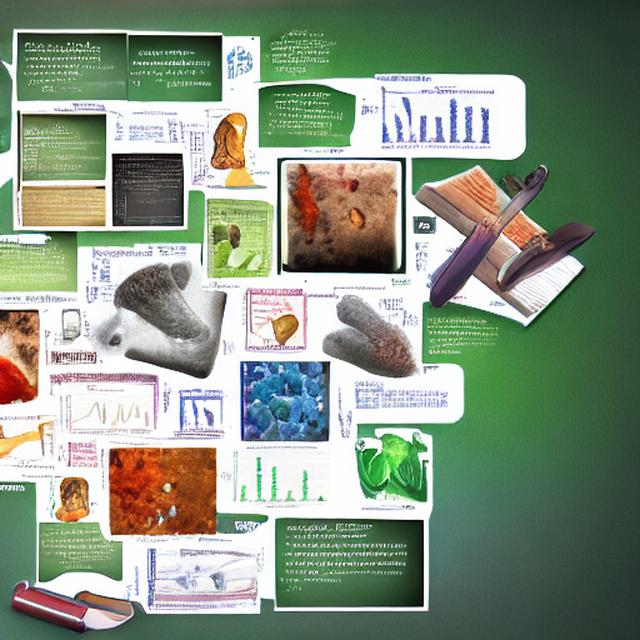Graph: (222, 444, 330, 511), (59, 389, 152, 440), (116, 184, 184, 226)
